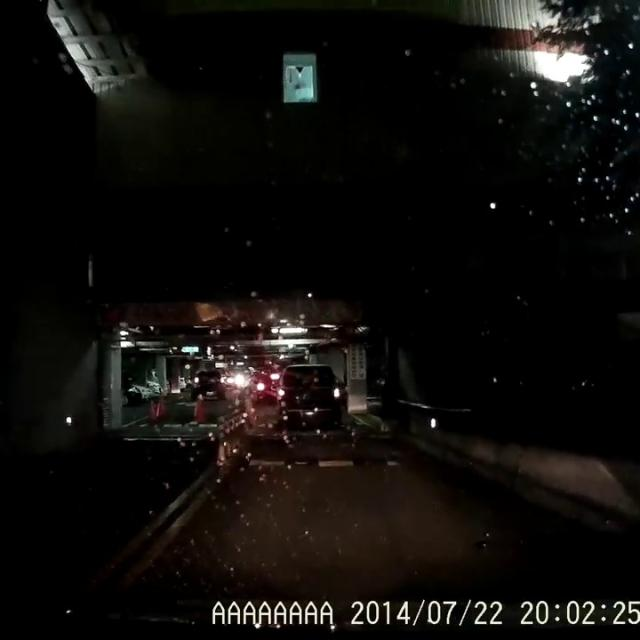Car: (275, 361, 347, 426), (189, 370, 224, 399)
